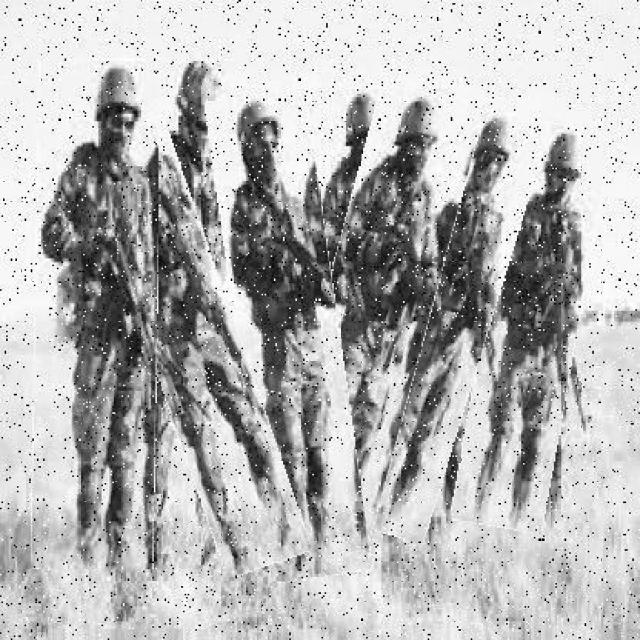Person: (99, 54, 272, 580), (289, 82, 456, 575), (223, 92, 357, 581), (374, 103, 520, 544), (35, 59, 159, 572), (471, 123, 597, 532)
